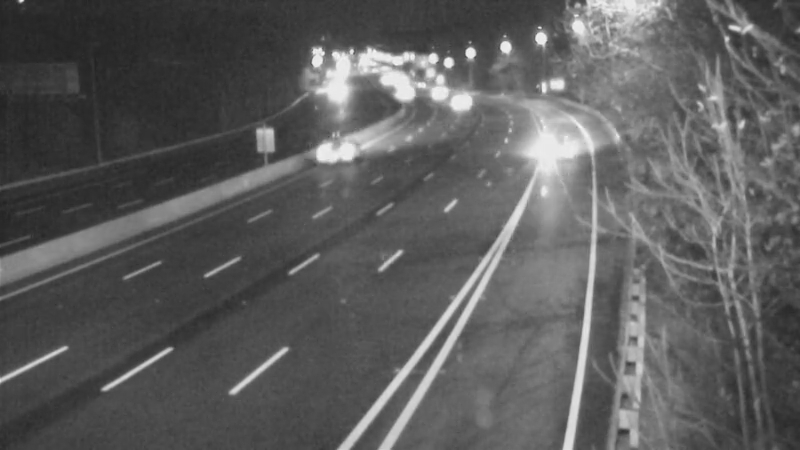vehicle: (415, 66, 465, 116), (374, 70, 424, 120), (431, 77, 481, 127), (531, 106, 581, 156), (315, 122, 365, 172)
